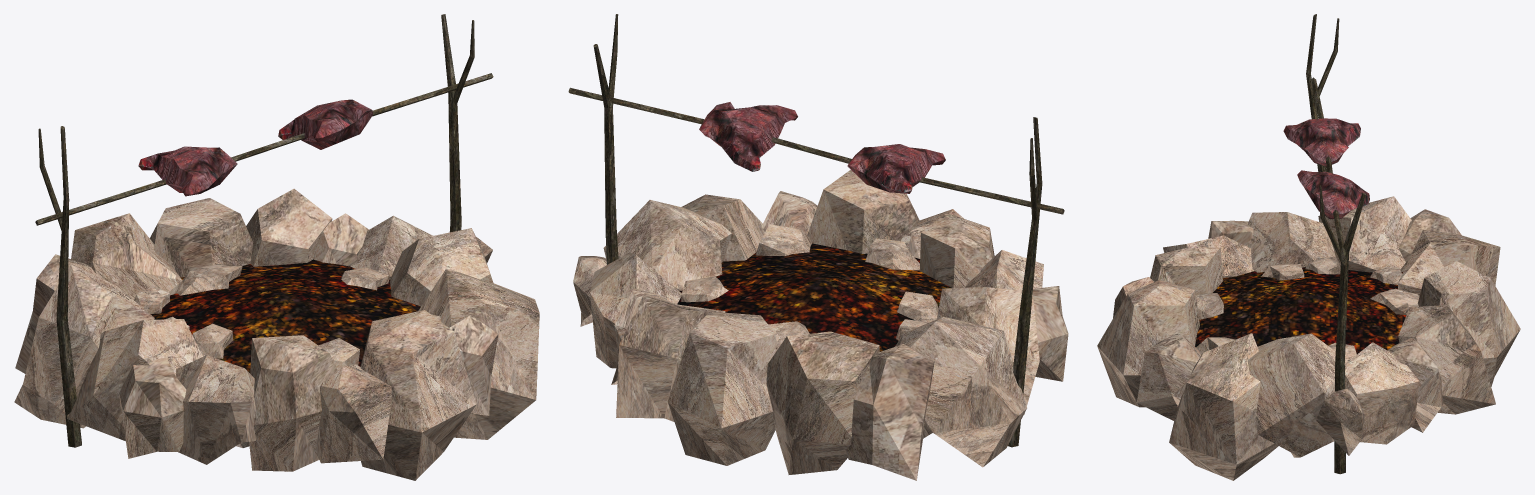
File: thm_dant_fire_pit_l0.fbx
The picture shows the model from 3 angles, left to right: view 1: azimuth 30°, elevation 25°; view 2: azimuth 150°, elevation 25°; view 3: azimuth 270°, elevation 25°; orthographic projection. The views are drawn at different scales.
Visible parts, largest first — view 1: mesh_node; view 2: mesh_node; view 3: mesh_node.
Boxes of the visible parts, x1,y1,x2,y2 form: mesh_node: [14, 14, 539, 480]; mesh_node: [568, 14, 1068, 480]; mesh_node: [1097, 14, 1520, 480].
Size of the model in its own units: 3.47 by 2.52 by 3.11.
4 materials, 4 textured.
